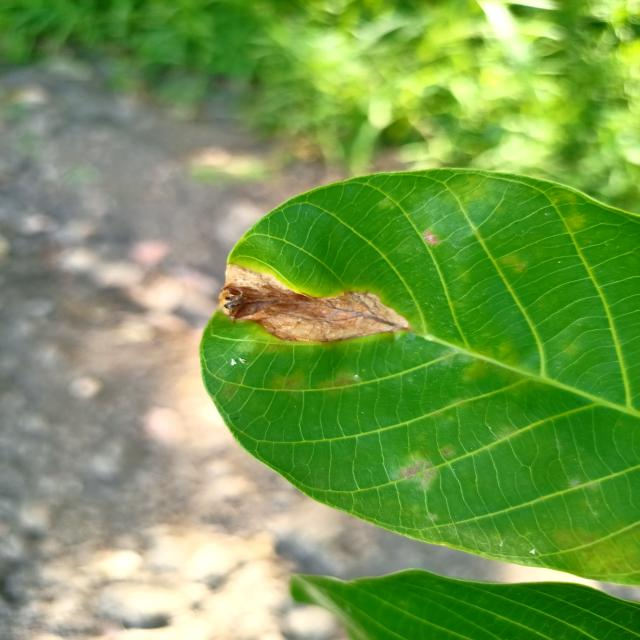Leaf-Blight: (219, 263, 410, 343)
